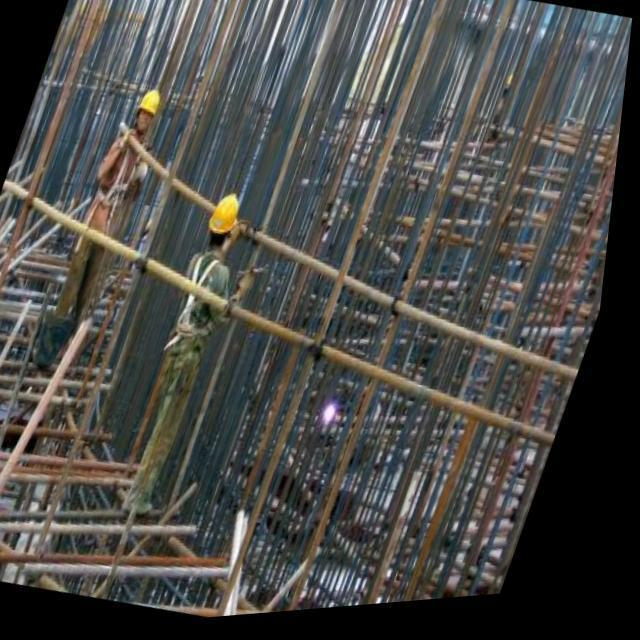safety belt: (176, 257, 221, 350), (98, 139, 140, 224)
